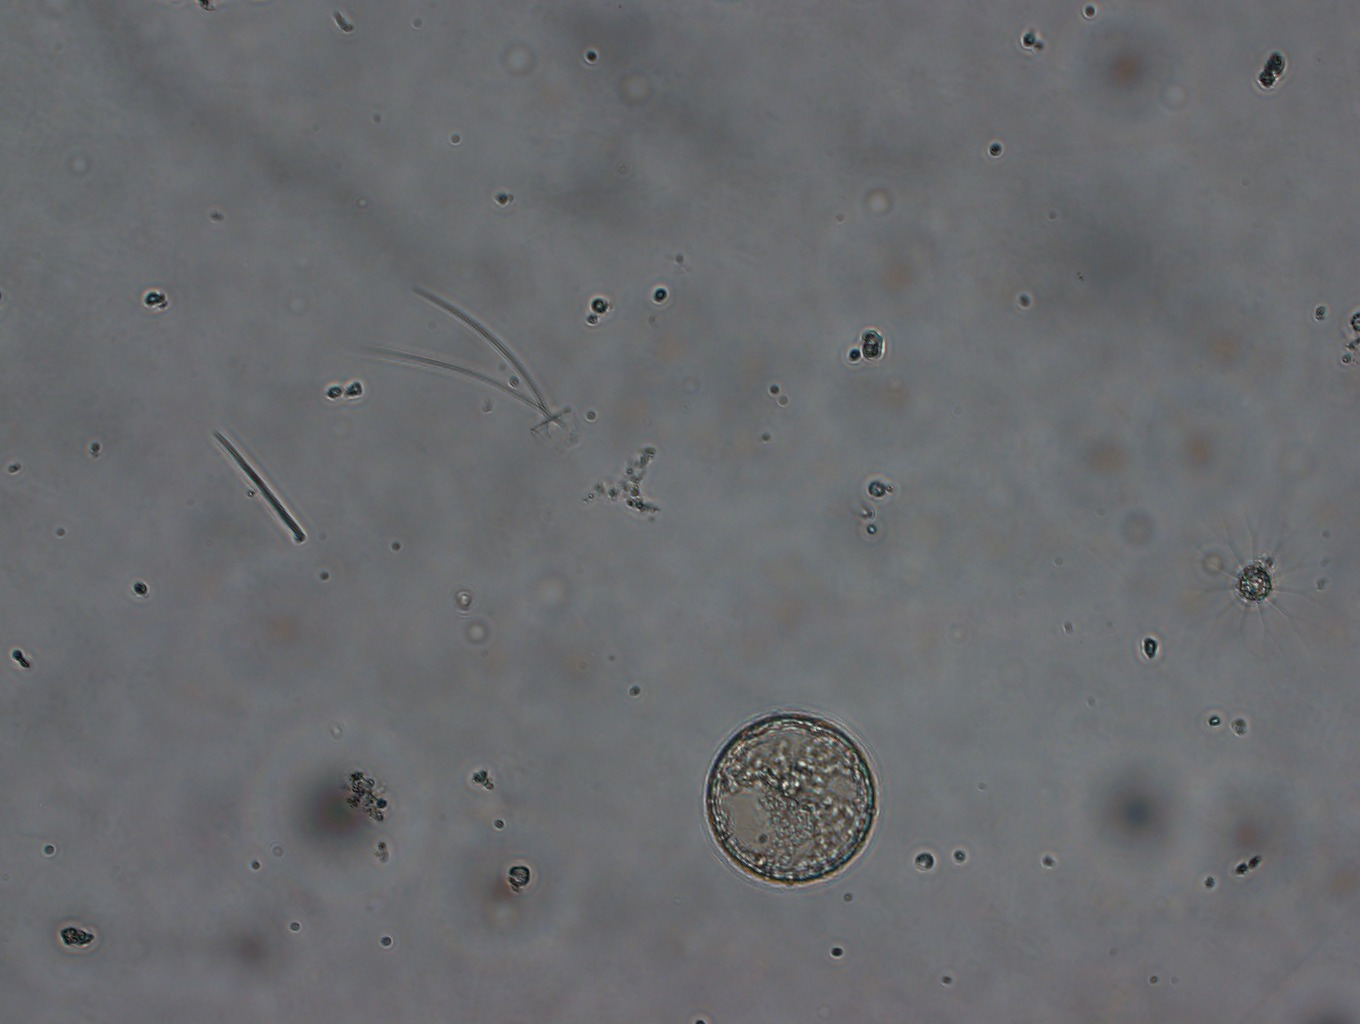coscinodiscus: (698, 703, 883, 890)
